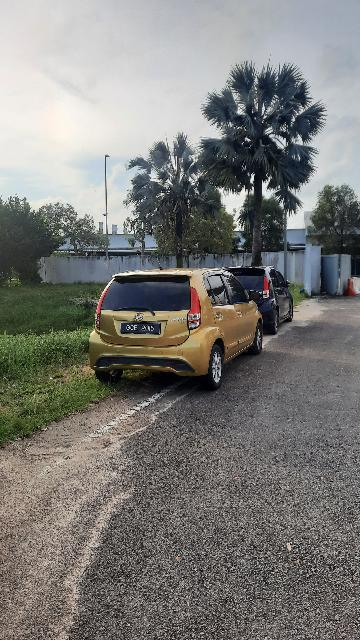License_Plate: (122, 322, 163, 337)
car: (88, 265, 268, 390), (225, 263, 304, 335)
